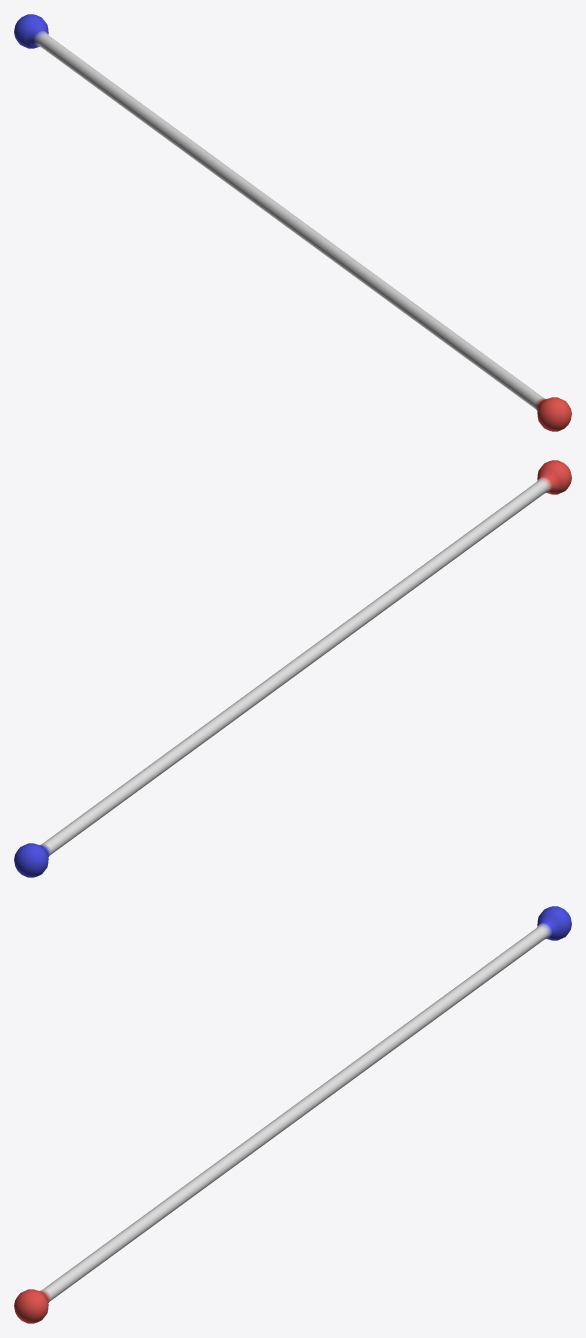
The model's file is polesmooth.glb.
3 views of the same model, one above another, from view 1: azimuth 30°, elevation 25°; view 2: azimuth 150°, elevation 25°; view 3: azimuth 330°, elevation 25° (orthographic).
Visible parts, largest first — view 1: Solid 1; view 2: Solid 1; view 3: Solid 1.
Part boxes in pixels (x1,y1,x2,y2): Solid 1: (14, 14, 571, 431); Solid 1: (14, 460, 571, 877); Solid 1: (14, 906, 571, 1323).
Bounding box in the file's own units: 0.0999 × 0.0999 × 3.1.
